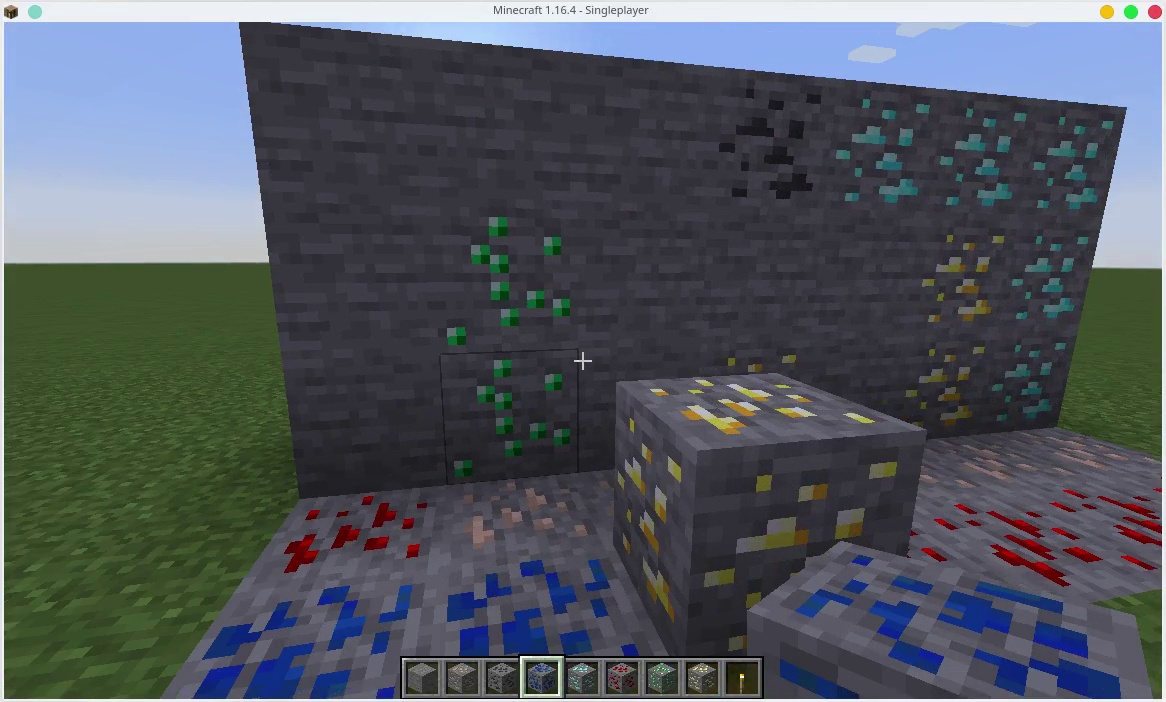gold: (624, 367, 890, 552), (926, 227, 1011, 332), (920, 343, 981, 429), (723, 351, 803, 372), (684, 663, 719, 697)
